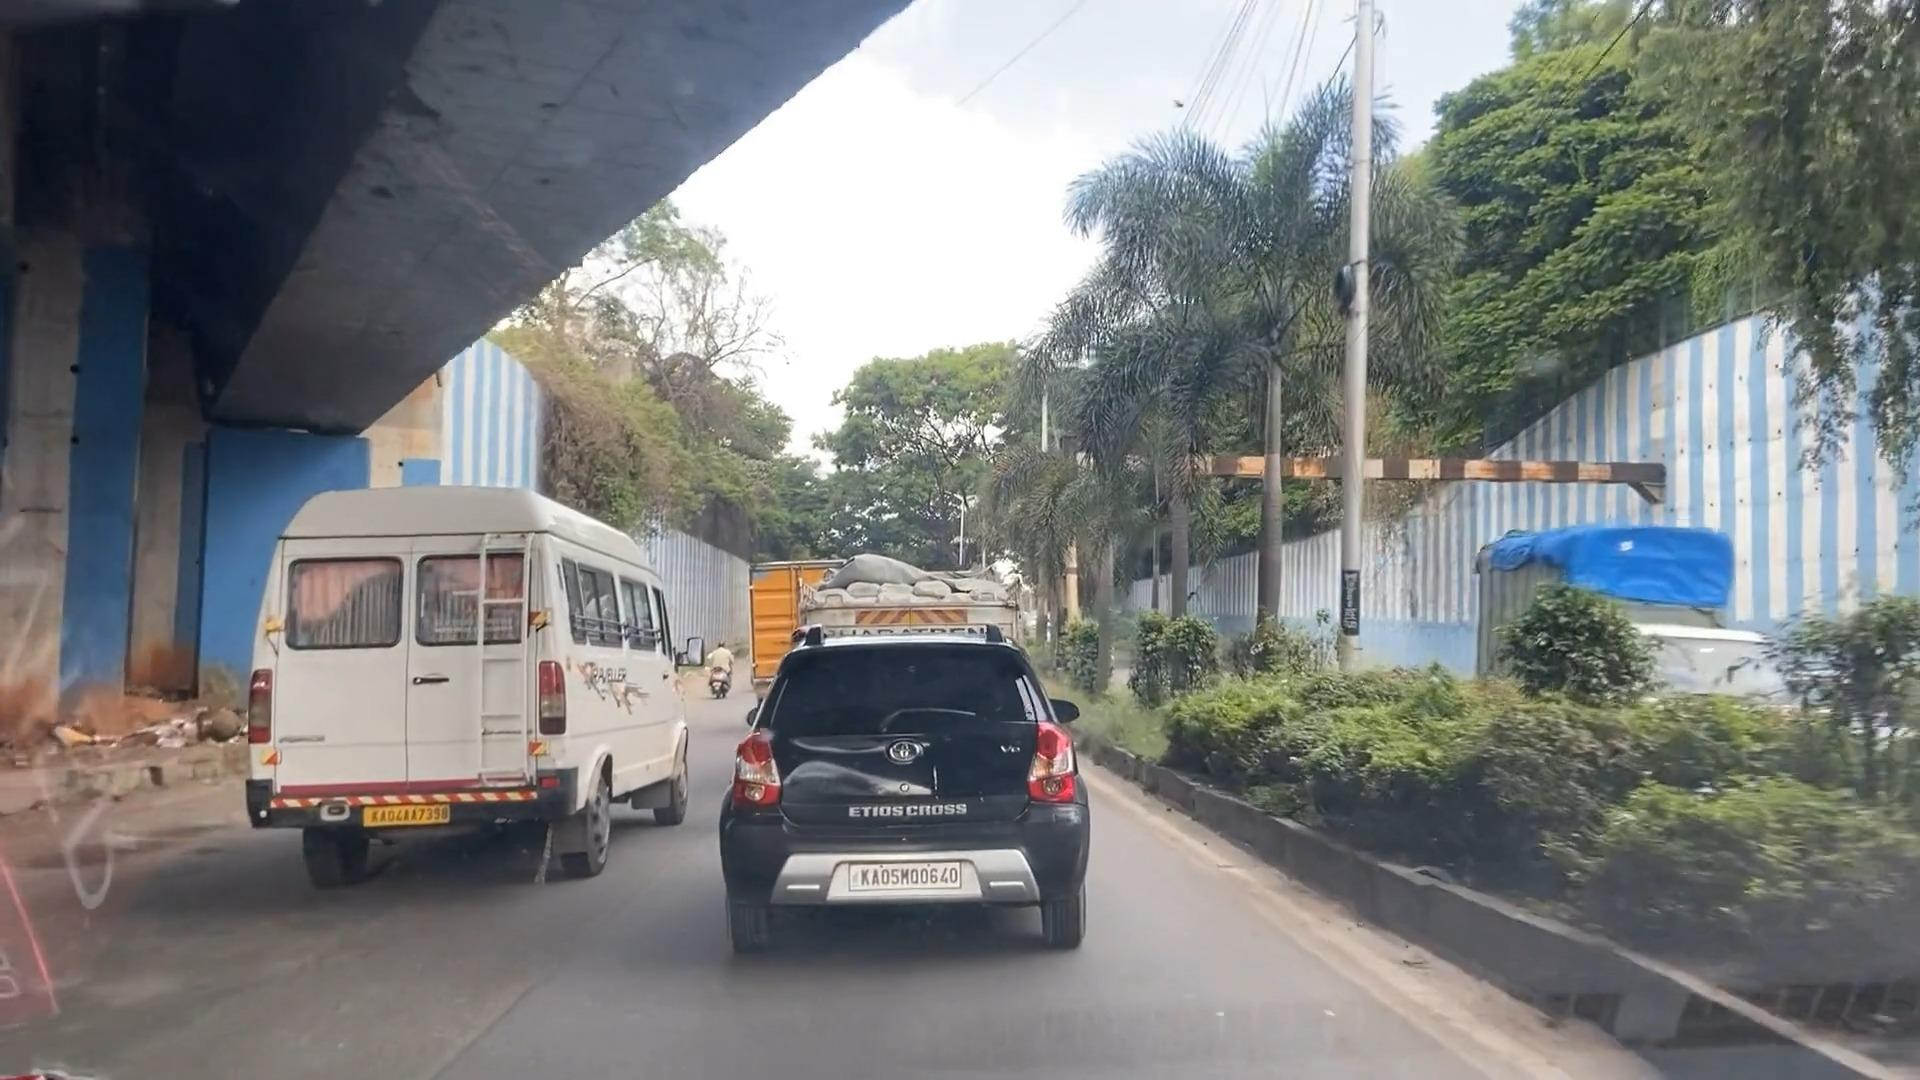HMV: (218, 477, 709, 893)
LMV: (705, 611, 1098, 968)
